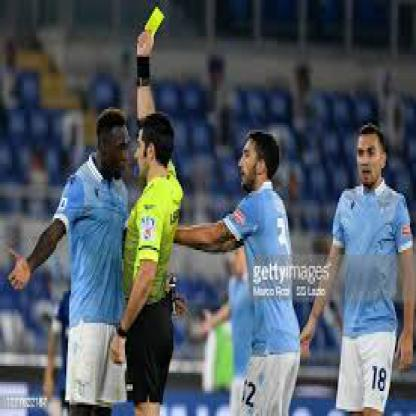foul: (123, 1, 193, 115)
